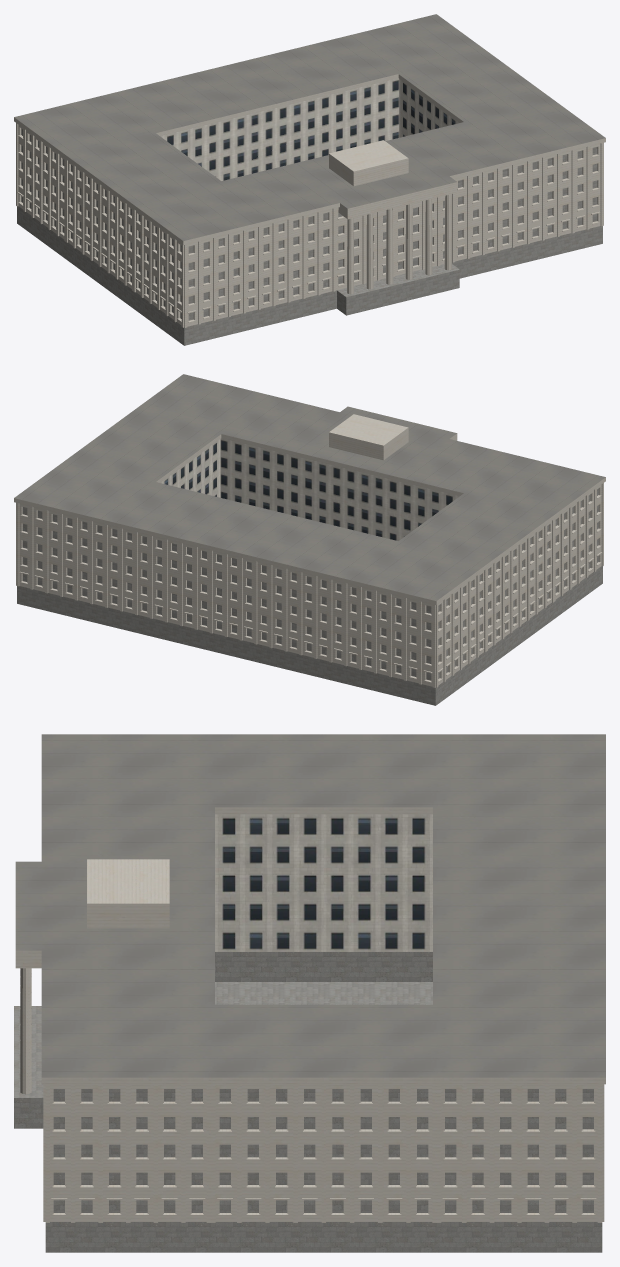
File: fed_eccles.glb
3 views of the same model, one above another, from view 1: azimuth 30°, elevation 25°; view 2: azimuth 150°, elevation 25°; view 3: azimuth 270°, elevation 25° (orthographic). The views are drawn at different scales.
Parts seen in each view (by area): view 1: fed_eccles; view 2: fed_eccles; view 3: fed_eccles.
Part boxes in pixels (x1,y1,x2,y2): fed_eccles: [14, 14, 605, 345]; fed_eccles: [14, 374, 605, 705]; fed_eccles: [14, 734, 605, 1252].
Bounding box in the file's own units: 108 × 29.5 × 78.7.
Materials: 4 (4 with a texture image).
